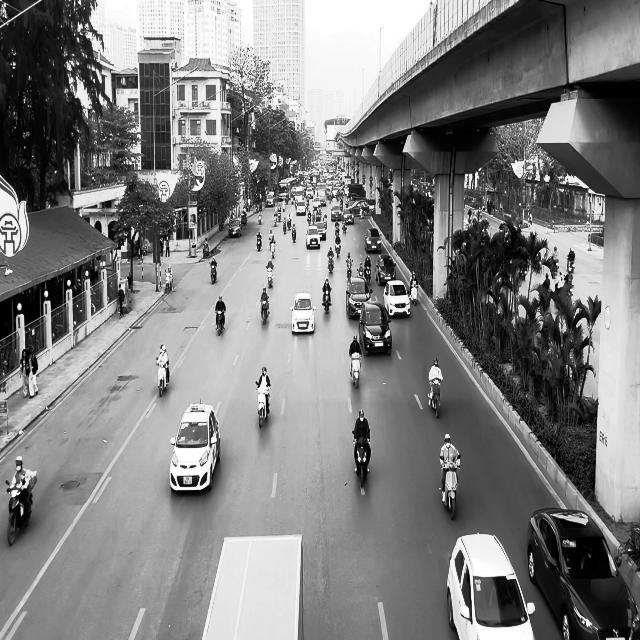car: (526, 506, 639, 639), (446, 532, 536, 640), (169, 401, 221, 493), (358, 300, 392, 355), (290, 292, 316, 334), (383, 279, 411, 318), (346, 276, 372, 318), (375, 253, 396, 286), (364, 227, 382, 252), (305, 225, 321, 249), (228, 218, 241, 238)
motorbike: (5, 472, 36, 545), (440, 453, 460, 520), (352, 430, 371, 494), (255, 380, 270, 428), (427, 378, 442, 418), (156, 358, 169, 396), (349, 350, 361, 388), (215, 310, 225, 336), (322, 287, 331, 314), (260, 298, 269, 324), (409, 281, 418, 304), (266, 264, 274, 288), (209, 260, 217, 283), (327, 254, 334, 273), (256, 235, 262, 251)
